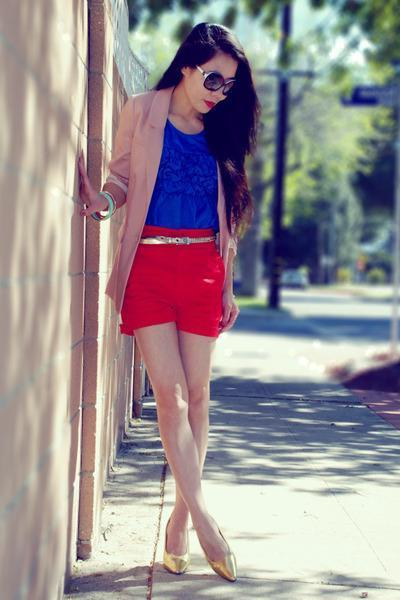Shorts: (112, 226, 232, 337)
jacket: (98, 88, 260, 308)
vest: (132, 115, 223, 234)
